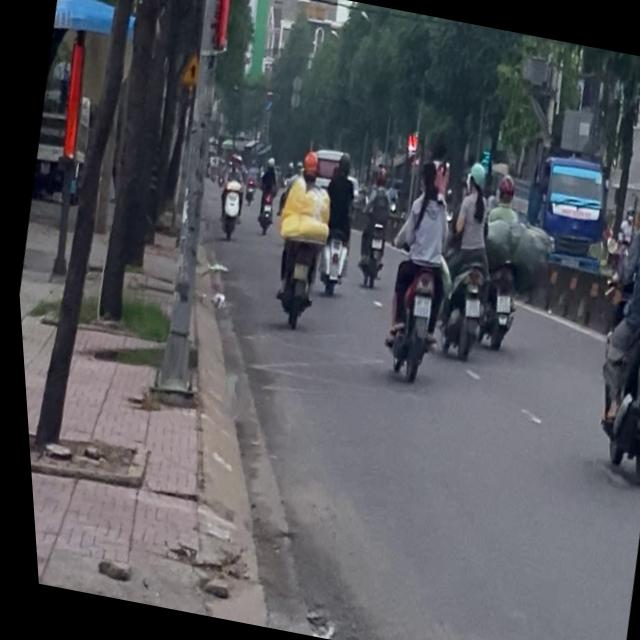helmet: (463, 158, 488, 192)
licenseplate: (361, 150, 472, 384), (563, 155, 640, 484), (419, 156, 511, 362)
motorcyclist: (413, 157, 441, 196)
nohelmet: (407, 294, 429, 316), (460, 296, 478, 316), (640, 366, 640, 396)
